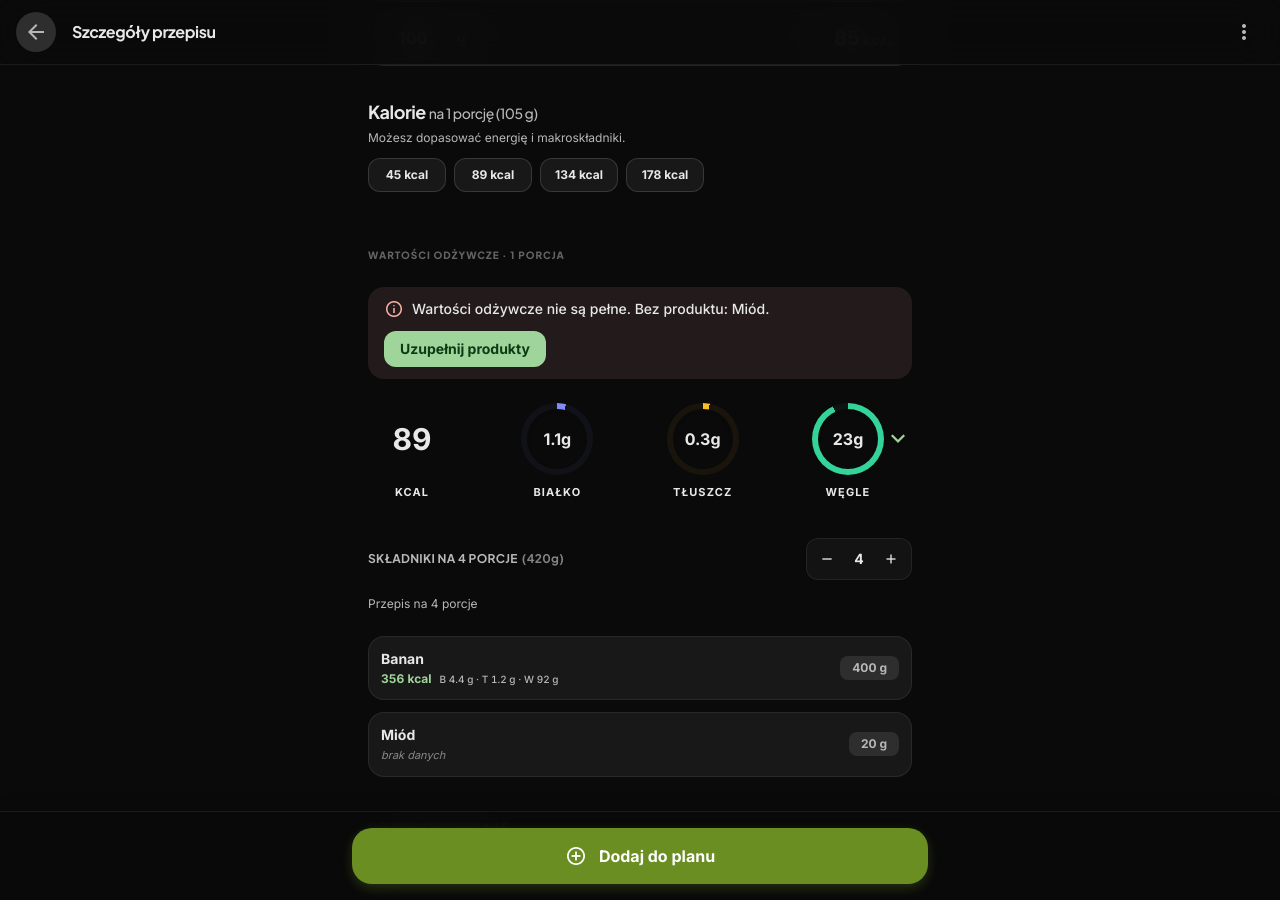
Scenario: RecipeDetails loading › shows a dash for nutrients that an ingredient has no data for
(page scrolled)
What coordinates should you click on to do the following:
click the button "23g Węgle"
I would click on:
 (858, 450)
Its box is [812,403,904,498].
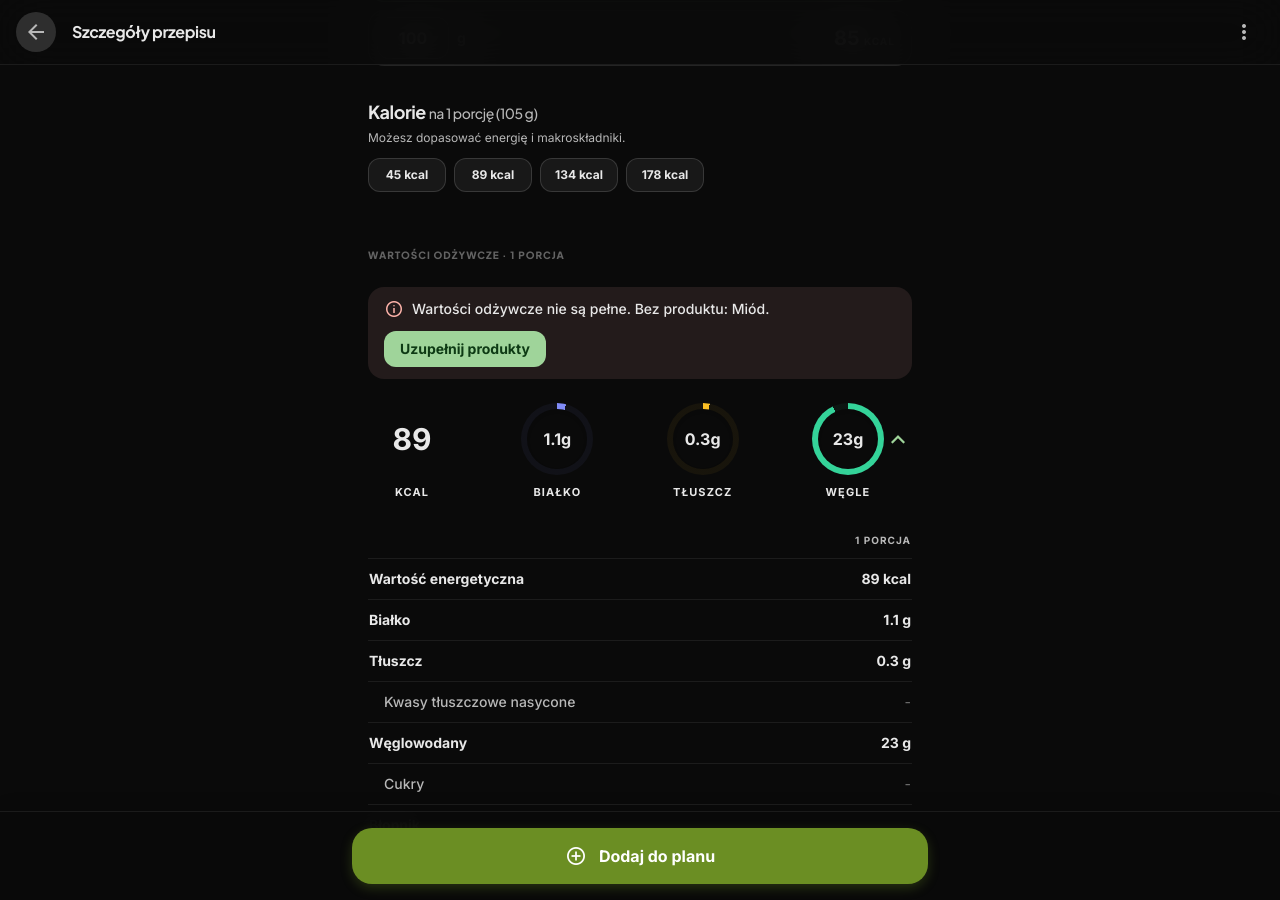
Expected: the cell "-" in the row of "Kwasy tłuszczowe nasycone" is shown, [904,693,911,710]
Now the cell "89 kcal" is shown, box [783,558,912,600]
